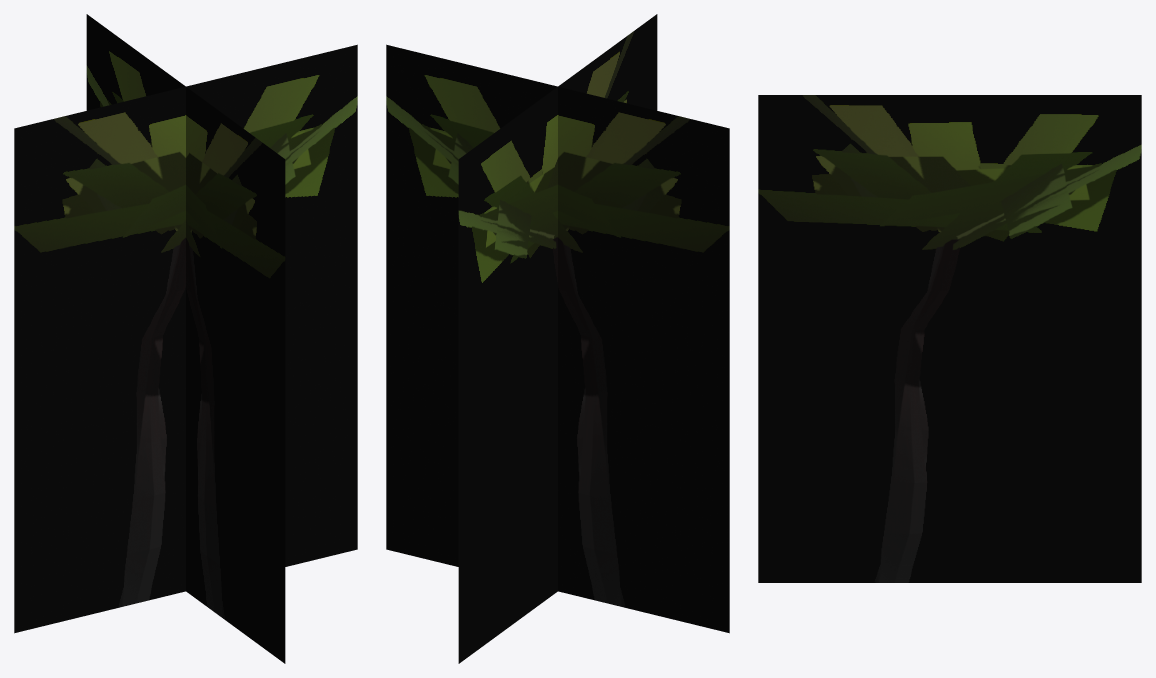
File: jungle_palm_a3_card.glb
3 views of the same model, side by side, from view 1: azimuth 30°, elevation 25°; view 2: azimuth 150°, elevation 25°; view 3: azimuth 270°, elevation 25° (orthographic). The views are drawn at different scales.
Visible parts, largest first — view 1: jungle_palm_a3_card; view 2: jungle_palm_a3_card; view 3: jungle_palm_a3_card.
Boxes of the visible parts, x1,y1,x2,y2 form: jungle_palm_a3_card: (14, 14, 357, 663); jungle_palm_a3_card: (386, 14, 729, 663); jungle_palm_a3_card: (758, 95, 1141, 582).
Bounding box in the file's own units: 5.49 × 7.7 × 5.49.
1 material, 1 textured.
